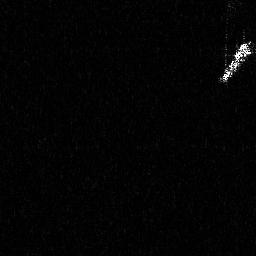ship: (216, 37, 256, 87)
